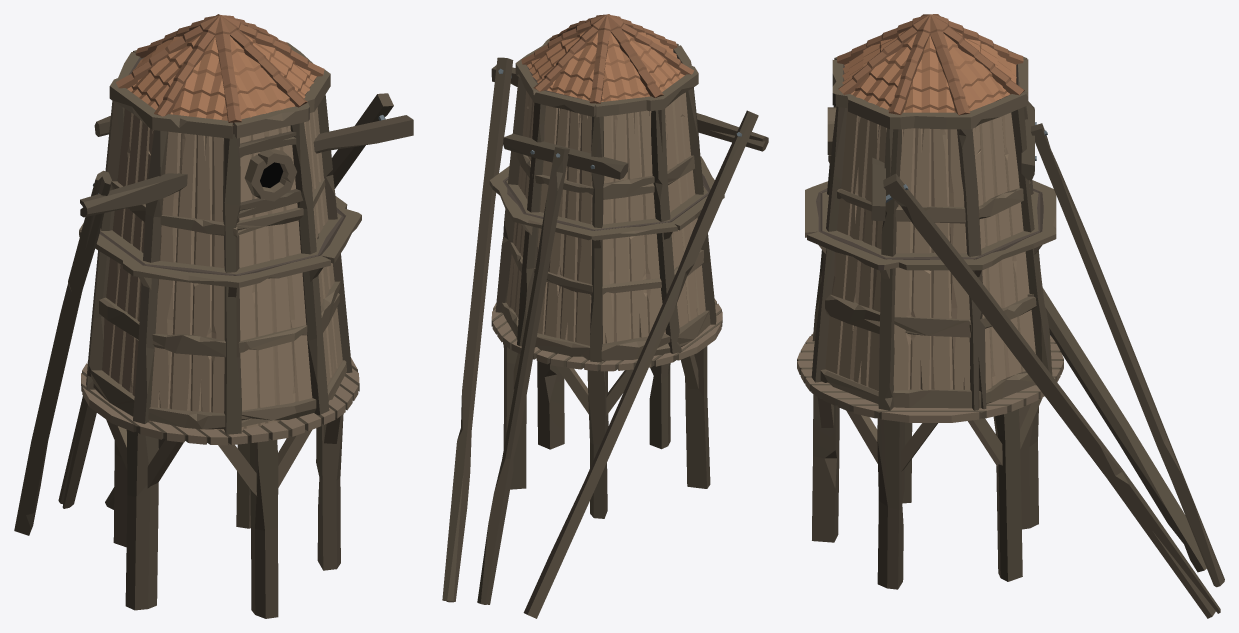
The model's file is SM_Bld_Windmill_02.glb.
The picture shows the model from 3 angles, left to right: view 1: azimuth 30°, elevation 25°; view 2: azimuth 150°, elevation 25°; view 3: azimuth 270°, elevation 25°; orthographic projection. The views are drawn at different scales.
Visible parts, largest first — view 1: SM_Bld_Windmill_02; view 2: SM_Bld_Windmill_02; view 3: SM_Bld_Windmill_02.
Part boxes in pixels (x1,y1,x2,y2): SM_Bld_Windmill_02: [14, 14, 413, 618]; SM_Bld_Windmill_02: [442, 14, 768, 618]; SM_Bld_Windmill_02: [797, 14, 1224, 618].
Size of the model in its own units: 5.74 by 10.29 by 6.84.
1 material, 1 textured.
